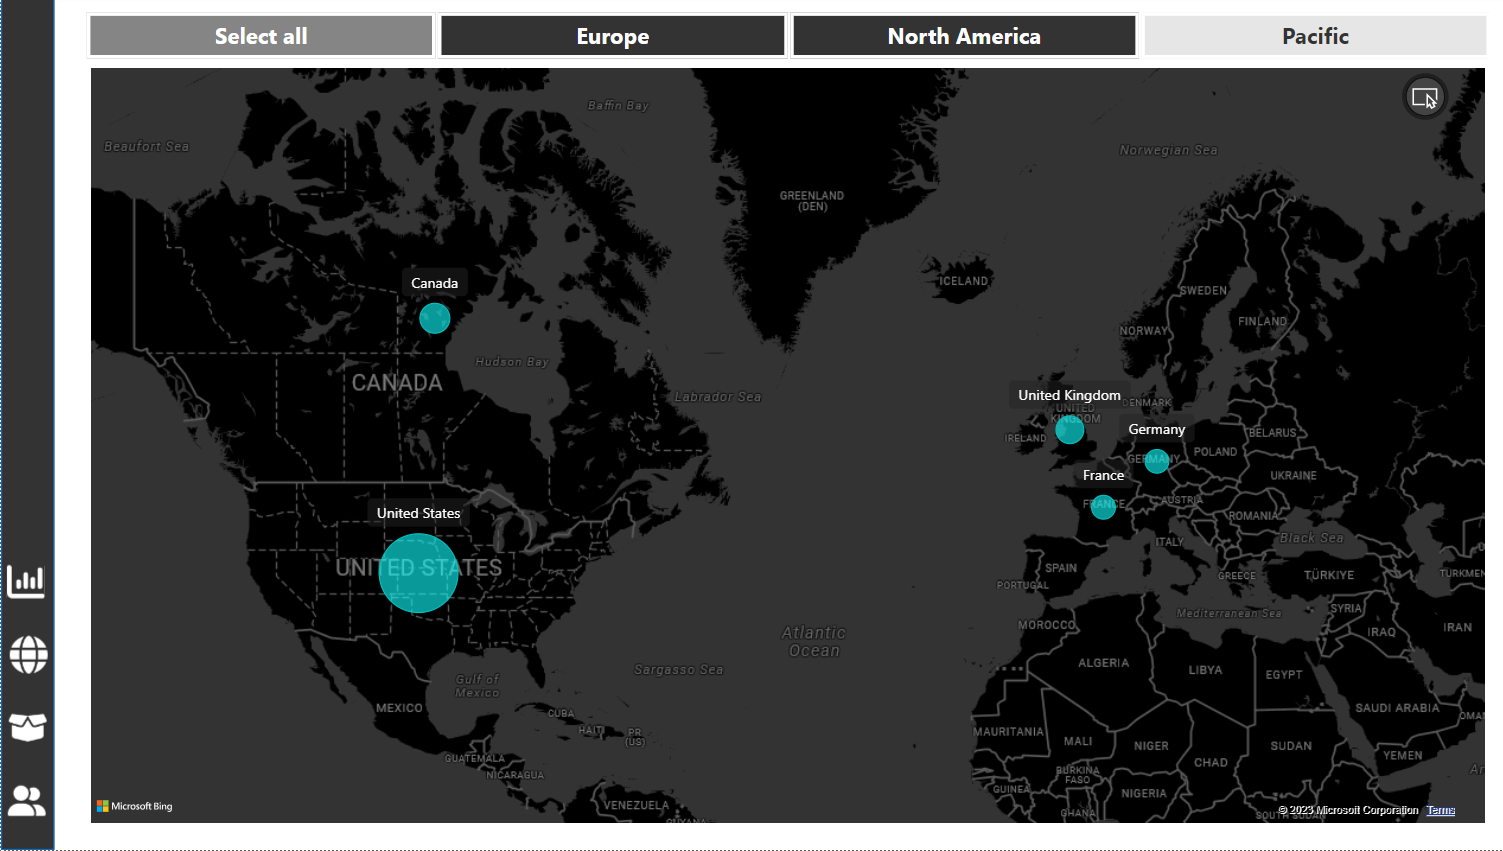

What the dashboard file says about the page in this screenshot:
{"tool":"powerbi","page":{"name":"Map","canvas":[1280,720],"ordinal":1},"visuals":[{"type":"shape","box":[0,0,44.8,720],"z":0},{"type":"actionButton","box":[2.8,596.4,44.8,40.3],"z":0,"group":"g1"},{"type":"map","fields":{"Category":["Territory Lookup.Country"],"Size":["Measure Table.Total orders"]},"box":[70.7,55.5,1184.8,646.6],"z":1000},{"type":"actionButton","box":[1,473.7,44.8,40.3],"z":1000,"group":"g1"},{"type":"slicer","fields":{"Values":["Territory Lookup.Continent"]},"box":[46.6,7.2,1233.1,48.4],"z":2000},{"type":"actionButton","box":[1.9,658.2,44.8,40.3],"z":2000,"group":"g1"},{"type":"group","id":"g1","title":"Navigation","box":[1,473.7,47.5,224.8],"z":3000},{"type":"actionButton","box":[3.7,535.5,44.8,40.3],"z":3000,"group":"g1"}]}

Visuals, with their boxes on the page's 1280x720 design canvas (x1, y1, x2, y2). These are canvas units, not pixel positions in the 1503x851 screenshot, which may show the page scaled, cropped or inside an application window:
shape: x1=0, y1=0, x2=45, y2=720
actionButton: x1=3, y1=596, x2=48, y2=637
map - Territory Lookup.Country x Measure Table.Total orders: x1=71, y1=56, x2=1256, y2=702
actionButton: x1=1, y1=474, x2=46, y2=514
slicer - Territory Lookup.Continent: x1=47, y1=7, x2=1280, y2=56
actionButton: x1=2, y1=658, x2=47, y2=698
"Navigation" group: x1=1, y1=474, x2=48, y2=698
actionButton: x1=4, y1=536, x2=48, y2=576
